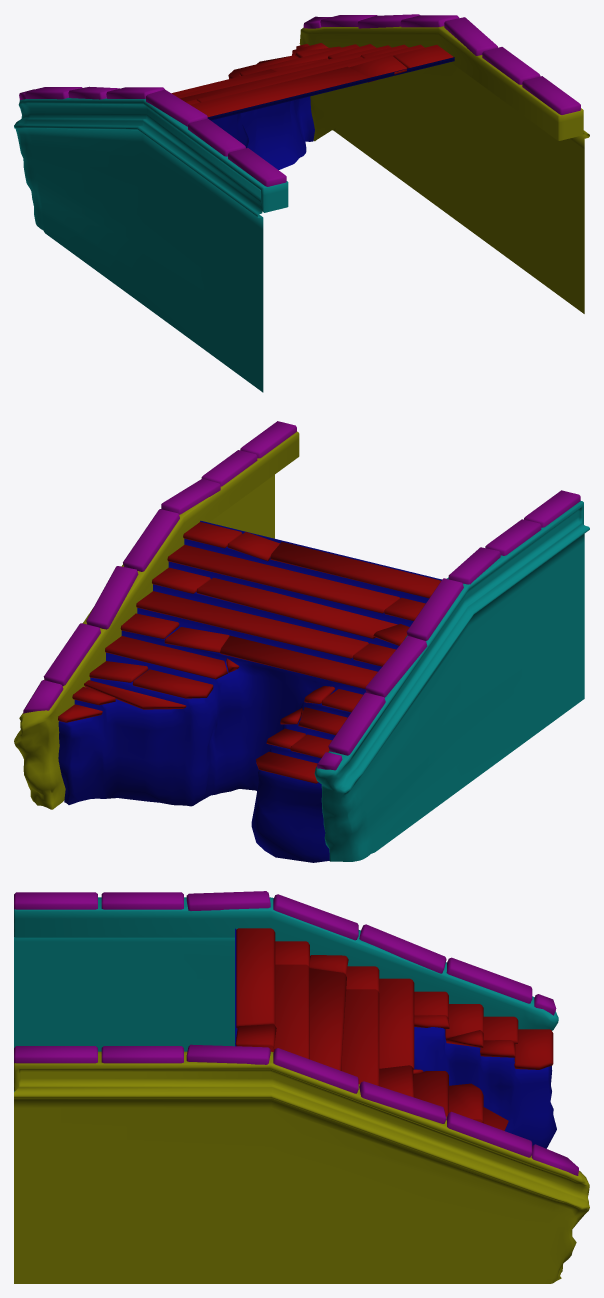
File: W1_Grand_Escalier_Casse.fbx
The picture shows the model from 3 angles, top to bottom: view 1: azimuth 30°, elevation 25°; view 2: azimuth 150°, elevation 25°; view 3: azimuth 270°, elevation 25°; orthographic projection. The views are drawn at different scales.
Visible parts, largest first — view 1: W1_Grand_Escalier_Casse_Cote_Droit, W1_Grand_Escalier_Casse_Cote_Gauche, W1_Grand_Escalier_Casse_Briques, W1_Grand_Escalier_Casse_Marches, W1_Grand_Escalier_Casse_Base; view 2: W1_Grand_Escalier_Casse_Cote_Droit, W1_Grand_Escalier_Casse_Base, W1_Grand_Escalier_Casse_Marches, W1_Grand_Escalier_Casse_Briques, W1_Grand_Escalier_Casse_Cote_Gauche; view 3: W1_Grand_Escalier_Casse_Cote_Gauche, W1_Grand_Escalier_Casse_Cote_Droit, W1_Grand_Escalier_Casse_Marches, W1_Grand_Escalier_Casse_Briques, W1_Grand_Escalier_Casse_Base.
Boxes of the visible parts, box(x1,y1,x2,y2) form: W1_Grand_Escalier_Casse_Cote_Droit: box(14, 97, 288, 392); W1_Grand_Escalier_Casse_Cote_Gauche: box(299, 26, 589, 313); W1_Grand_Escalier_Casse_Briques: box(19, 14, 580, 186); W1_Grand_Escalier_Casse_Marches: box(171, 43, 453, 116); W1_Grand_Escalier_Casse_Base: box(207, 57, 454, 169); W1_Grand_Escalier_Casse_Cote_Droit: box(314, 501, 589, 861); W1_Grand_Escalier_Casse_Base: box(58, 520, 441, 862); W1_Grand_Escalier_Casse_Marches: box(58, 522, 440, 783); W1_Grand_Escalier_Casse_Briques: box(23, 421, 580, 770); W1_Grand_Escalier_Casse_Cote_Gauche: box(14, 431, 299, 809); W1_Grand_Escalier_Casse_Cote_Gauche: box(14, 1051, 589, 1283); W1_Grand_Escalier_Casse_Cote_Droit: box(14, 897, 558, 1091); W1_Grand_Escalier_Casse_Marches: box(235, 928, 553, 1130); W1_Grand_Escalier_Casse_Briques: box(14, 891, 578, 1175); W1_Grand_Escalier_Casse_Base: box(235, 928, 556, 1148).
Size of the model in its own units: 739 by 450 by 1036.
